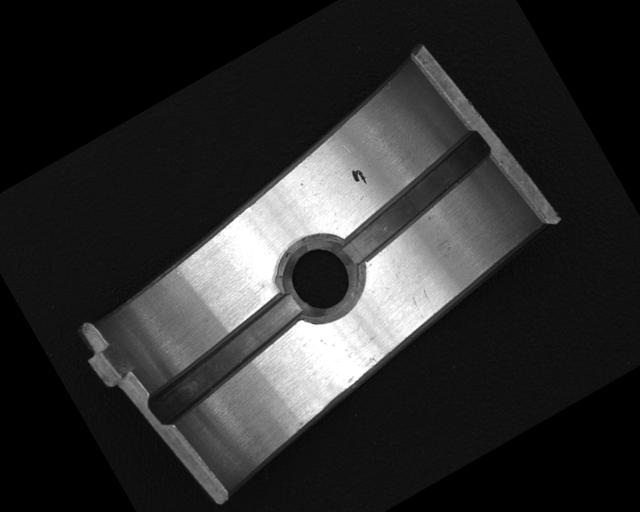blot: (349, 165, 369, 188)
gap: (132, 286, 322, 430), (325, 129, 508, 271)
hole: (272, 226, 374, 330)
